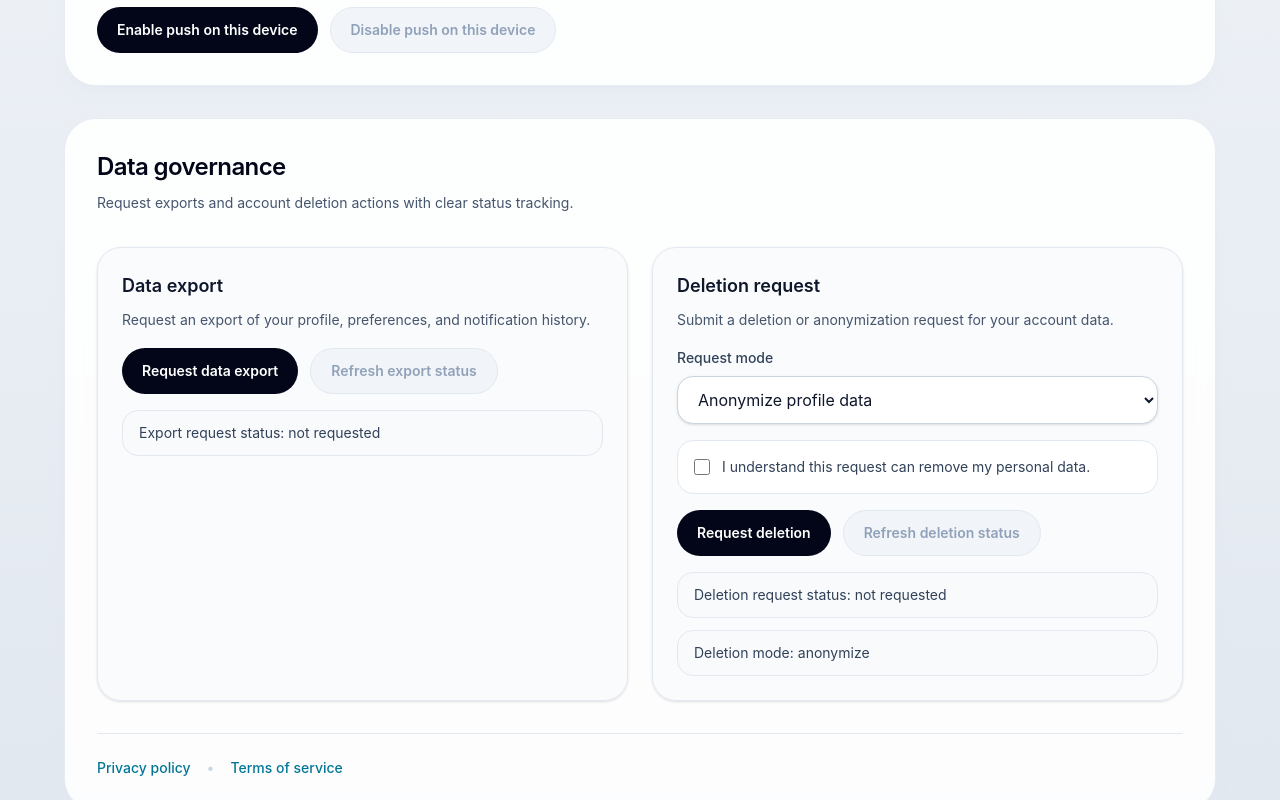
it: SettingsPreferencesForm › submits and refreshes deletion request status
This screenshot has width=1280, height=800.
(page scrolled)
Select "Delete account data" in the dropdown labelled "Request mode" at (918,400), box top-left (677, 376), bottom-right (1158, 424)
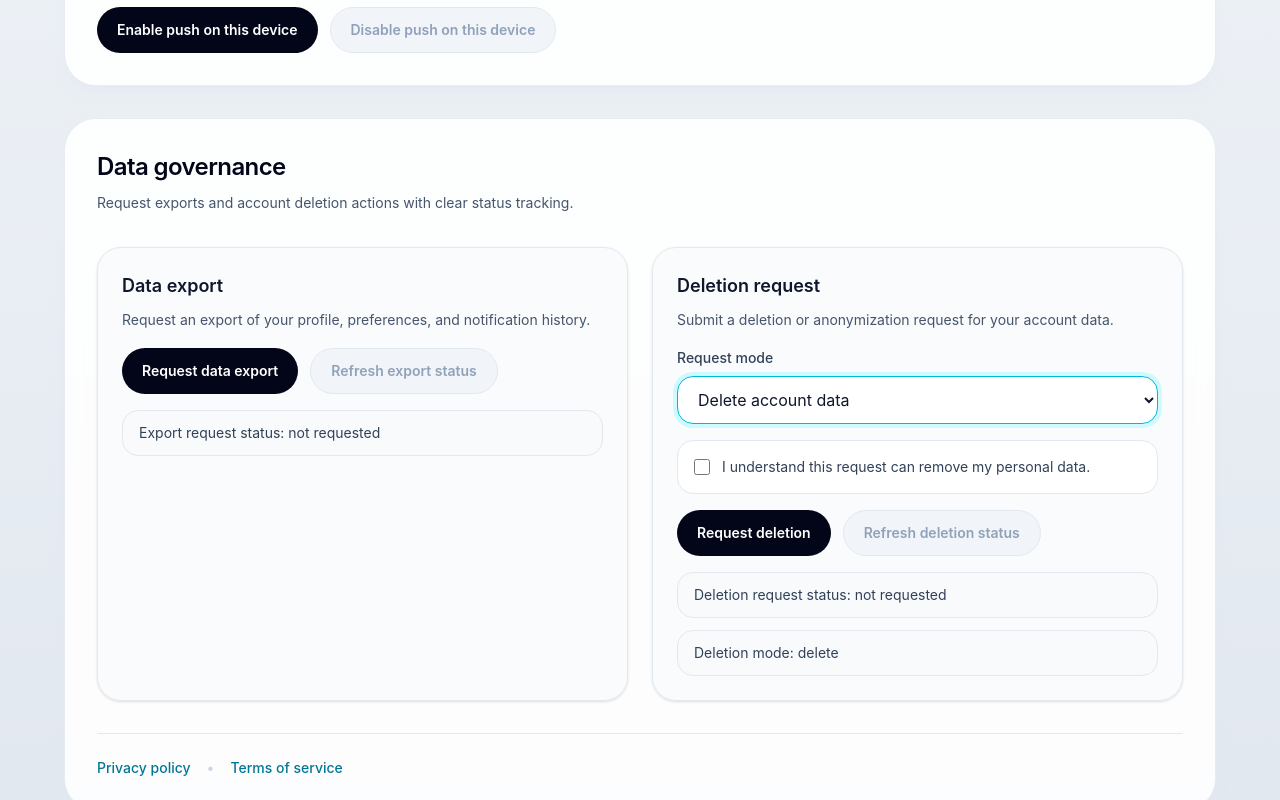
Click the checkbox labelled "I understand this request can remove my personal data." at (702,467), box top-left (694, 459), bottom-right (710, 475)
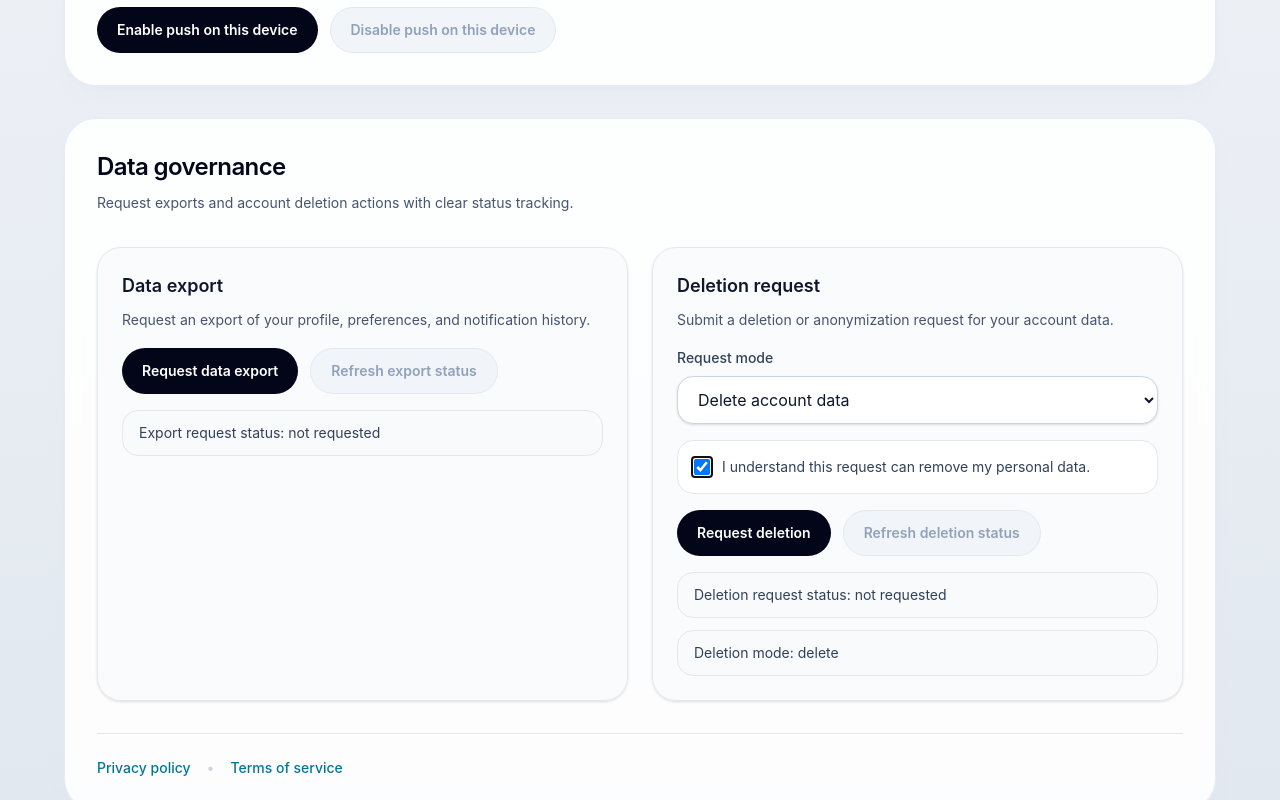
Click the button "Request deletion" at (754,533), box top-left (677, 510), bottom-right (831, 556)
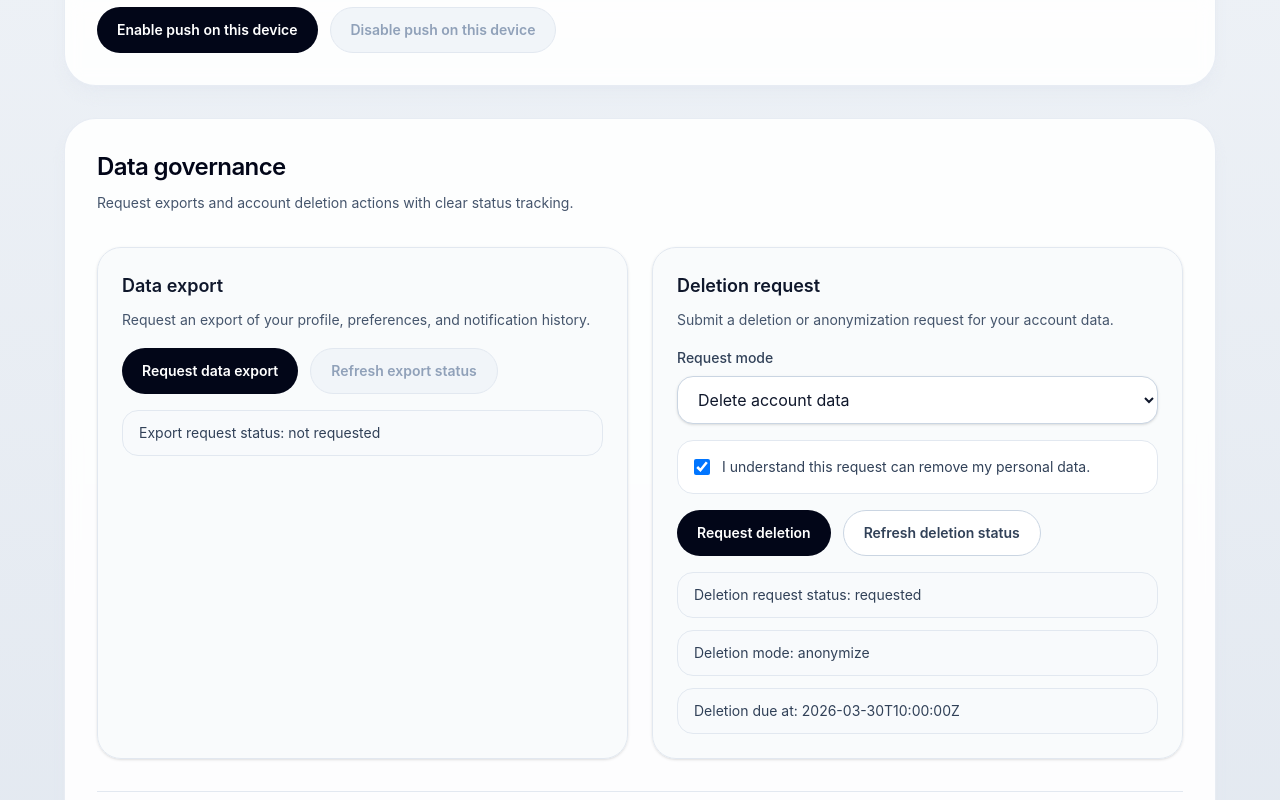
Now the text "Deletion request status: requested" is shown, box top-left (677, 572), bottom-right (1158, 618)
Click the button "Refresh deletion status" at (942,533), box top-left (843, 510), bottom-right (1041, 556)
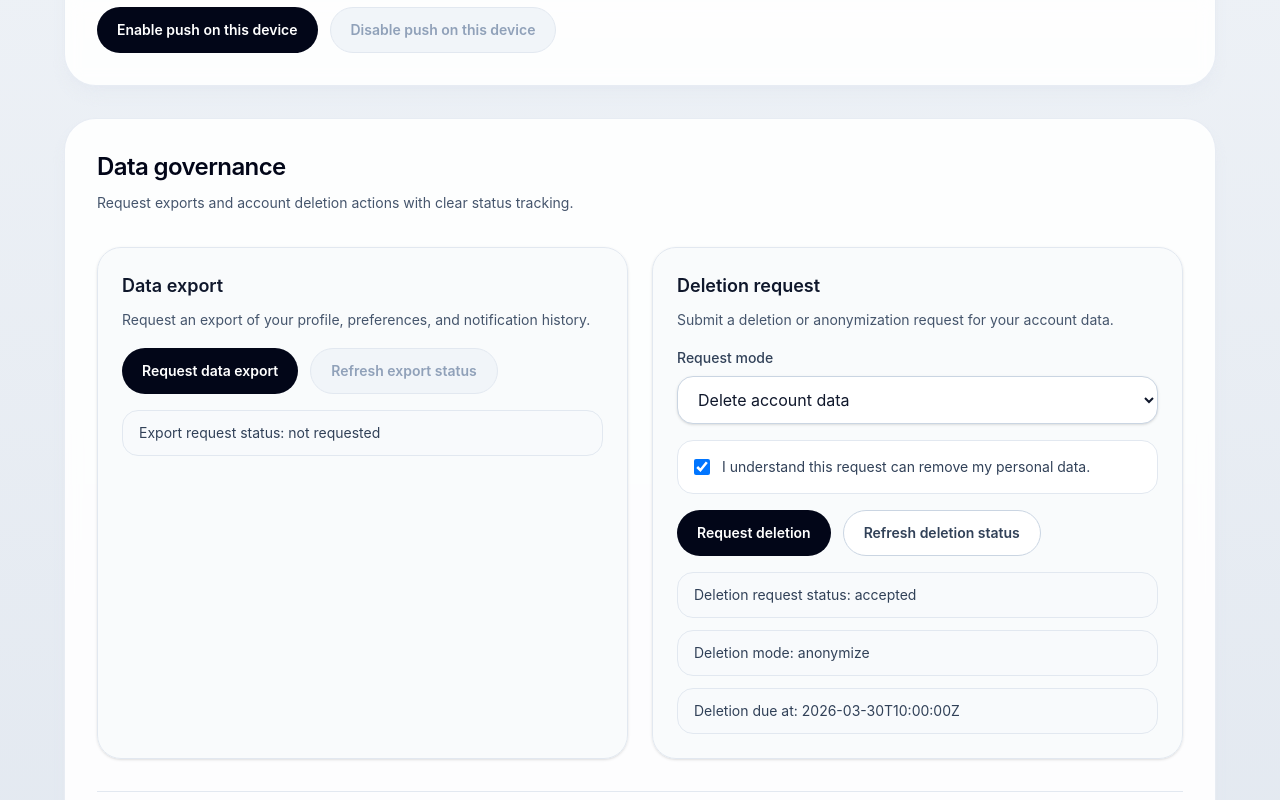
Now the text "Deletion request status: accepted" is shown, box top-left (677, 572), bottom-right (1158, 618)
